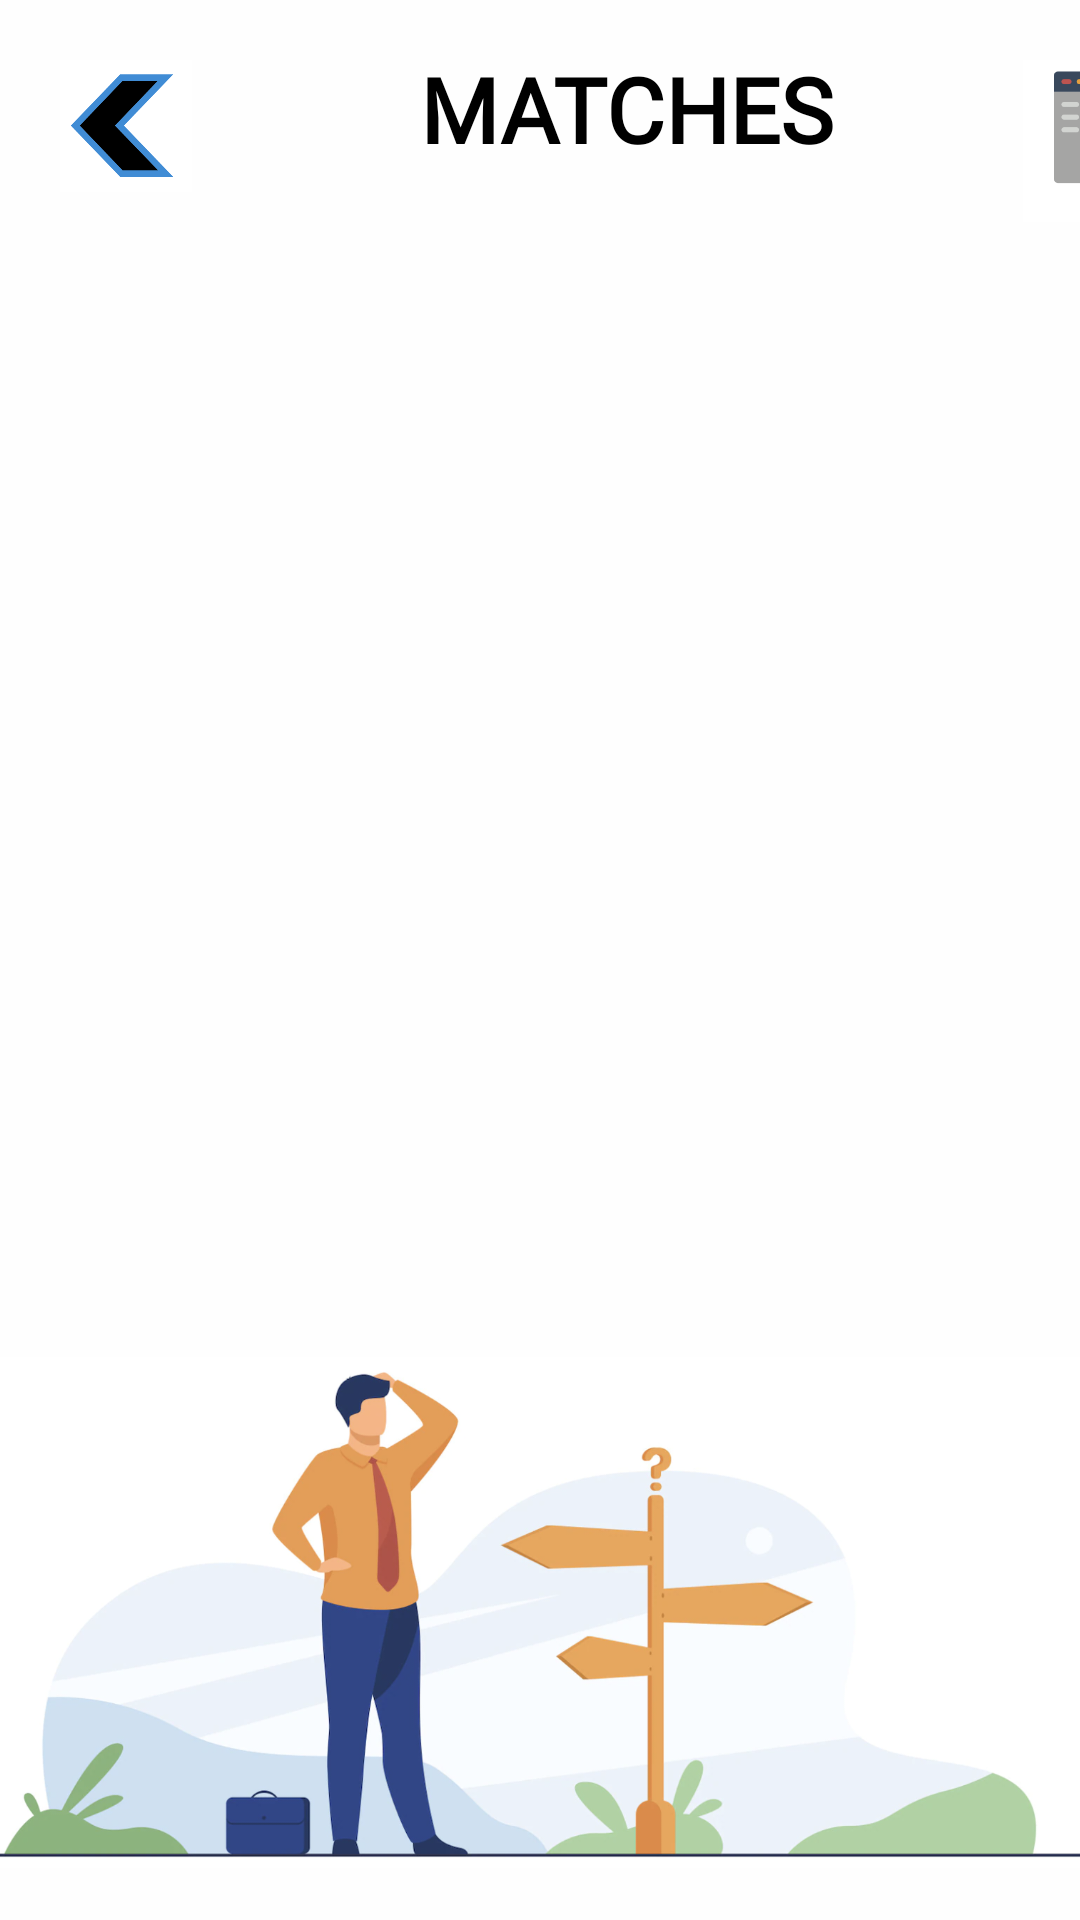

Screen size 1080×1920. Icon name, then its center in pixels as (x=x, y=y):
backarrow: (x=122, y=125)
